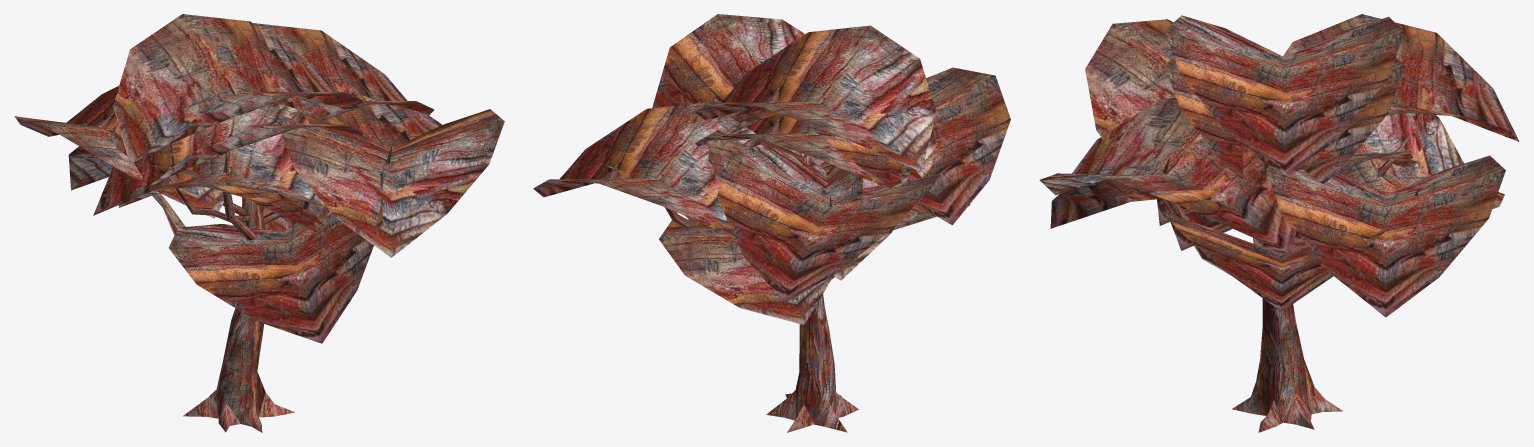
The picture shows the model from 3 angles, left to right: view 1: azimuth 30°, elevation 25°; view 2: azimuth 150°, elevation 25°; view 3: azimuth 270°, elevation 25°; orthographic projection. The views are drawn at different scales.
Parts seen in each view (by area): view 1: 2_Cluster8, 1_Trunk; view 2: 2_Cluster8, 1_Trunk; view 3: 2_Cluster8, 1_Trunk.
Boxes of the visible parts, bbox=[...] form: 2_Cluster8: bbox=[14, 14, 504, 343]; 1_Trunk: bbox=[152, 142, 392, 432]; 2_Cluster8: bbox=[533, 14, 1010, 324]; 1_Trunk: bbox=[647, 133, 858, 432]; 2_Cluster8: bbox=[1039, 14, 1519, 317]; 1_Trunk: bbox=[1162, 130, 1419, 432].
Size of the model in its own units: 135 by 118 by 135.
1 material, 1 textured.
